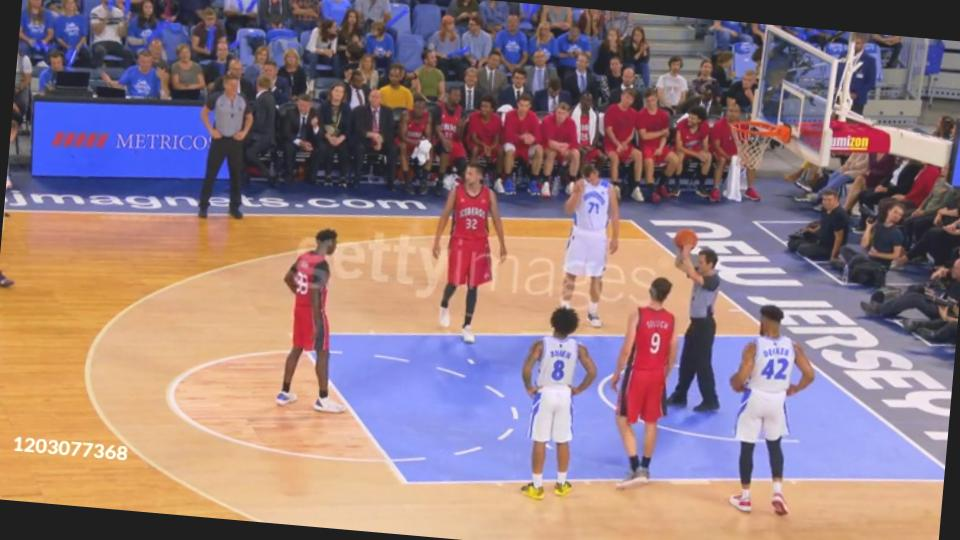hoop: (726, 113, 796, 148)
